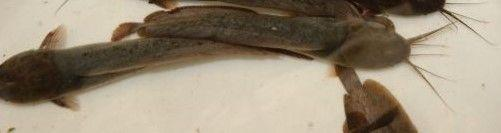Catfish: (116, 0, 441, 77)
Mudfish: (0, 30, 311, 109)
